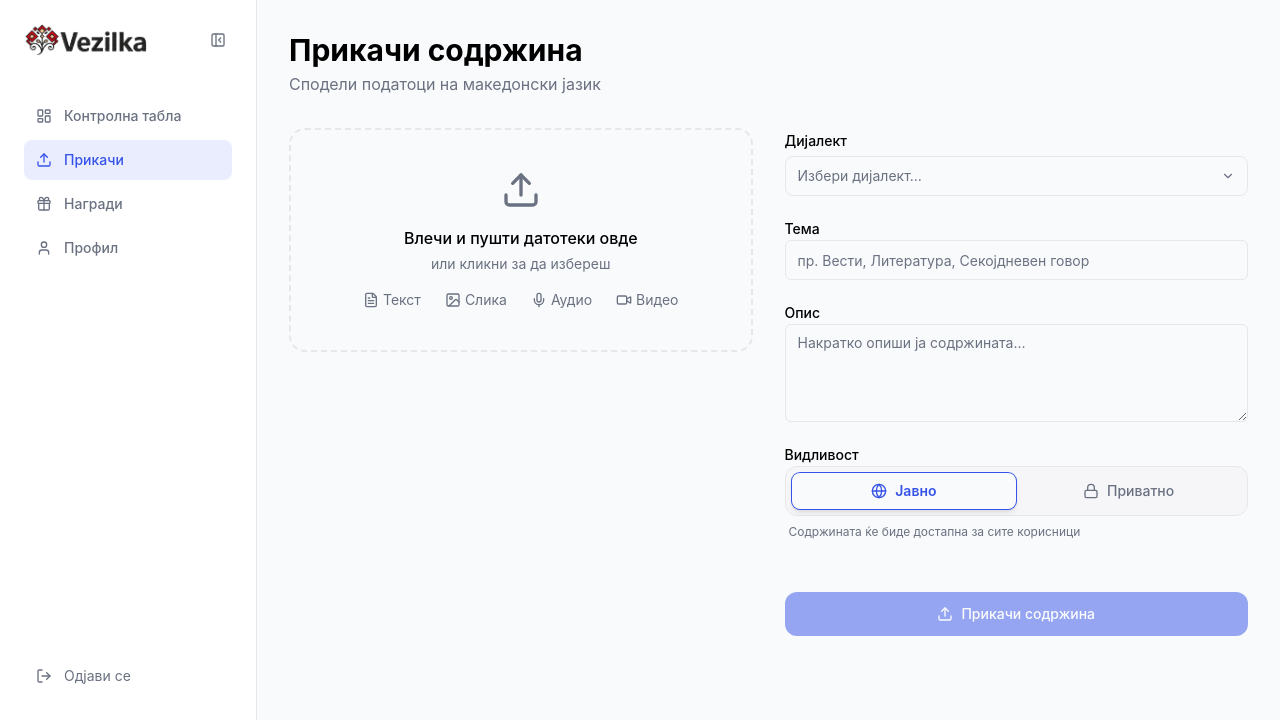
Test: UploadPage › changes visibility back to public
What coordinates should you click on to do the following:
click the button "Приватно"
I would click on:
 (1129, 491)
Its box is [1016, 473, 1241, 509].
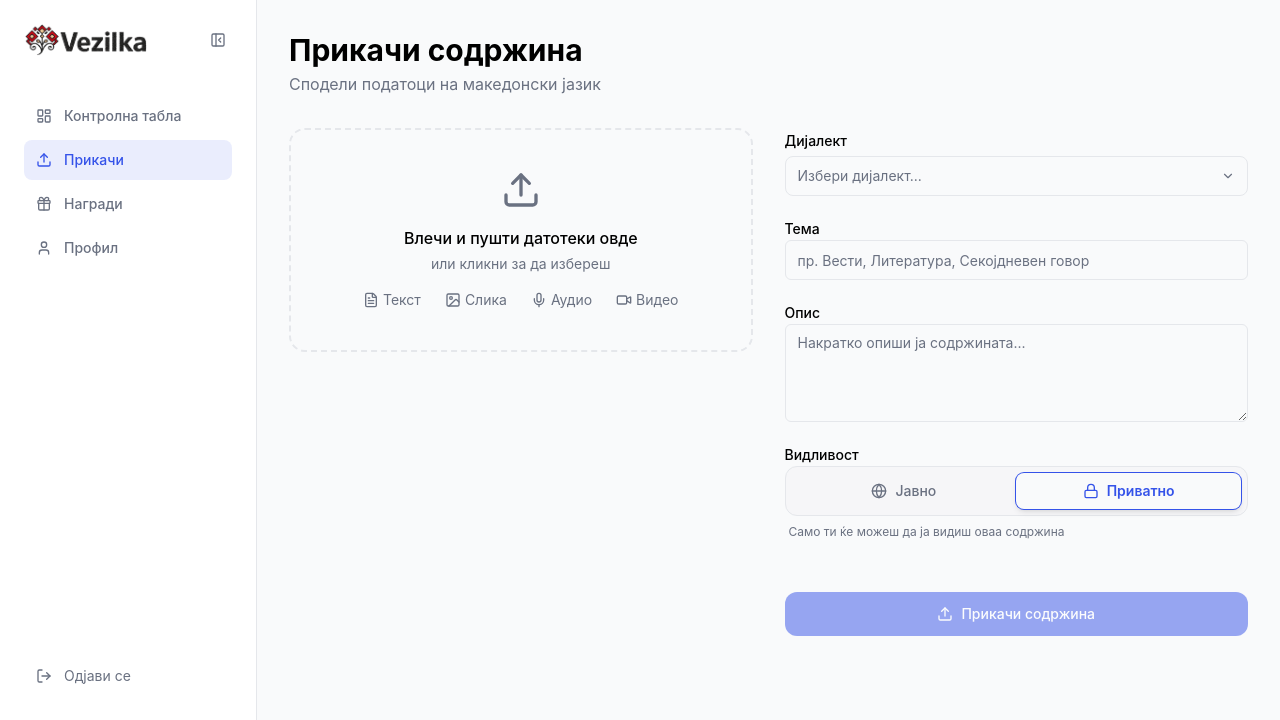
What coordinates should you click on to do the following:
click the button "Јавно"
I would click on:
 (904, 491)
Its box is [792, 473, 1016, 509].
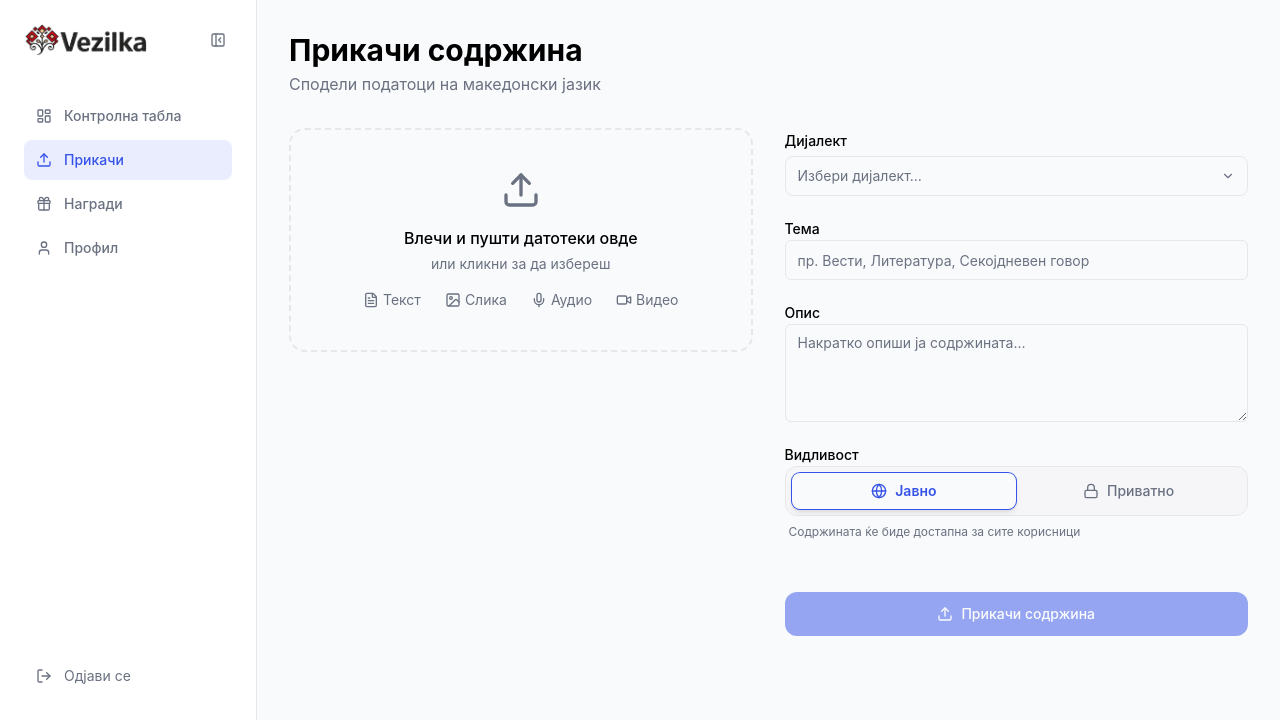
Result: the text "Содржината ќе биде достапна за сите корисници" is shown at [788, 524, 1080, 539]
